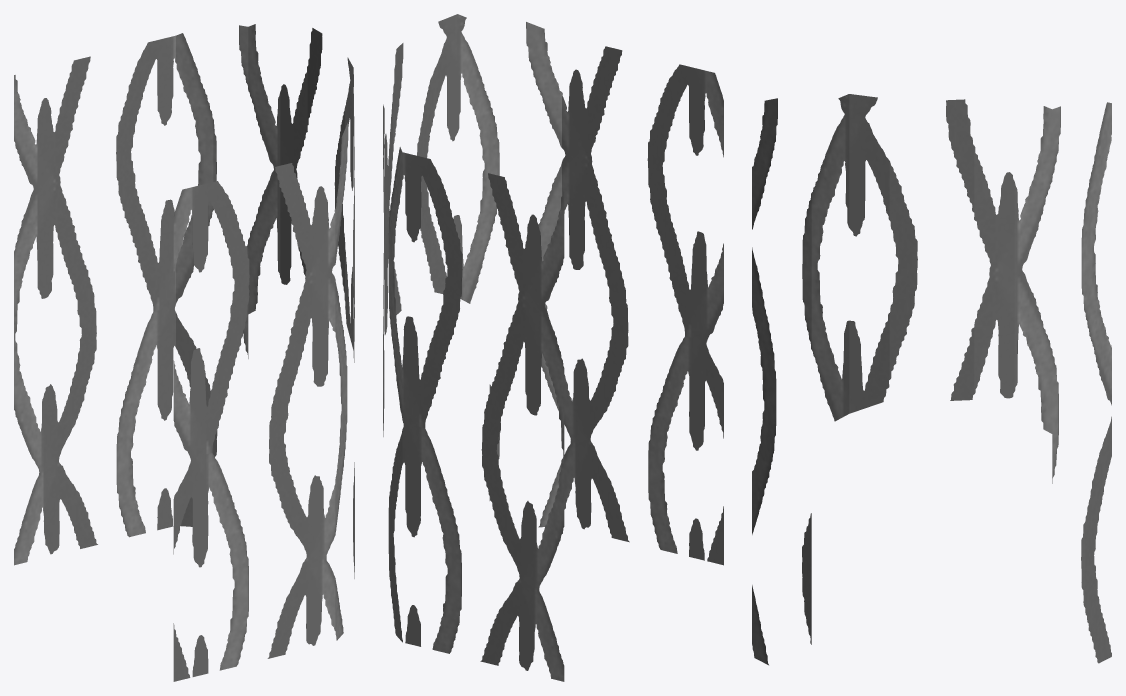
File: ChainsWall.fbx
3 renders of one model, left to right at view 1: azimuth 30°, elevation 25°; view 2: azimuth 150°, elevation 25°; view 3: azimuth 270°, elevation 25°, orthographic. The views are drawn at different scales.
Visible parts, largest first — view 1: Cylinder; view 2: Cylinder; view 3: Cylinder.
Boxes of the visible parts, x1=… form: Cylinder: x1=14, y1=24, x2=354, y2=681; Cylinder: x1=383, y1=14, x2=723, y2=681; Cylinder: x1=752, y1=94, x2=1111, y2=665.
Size of the model in its own units: 5.82 by 12.47 by 6.82.
